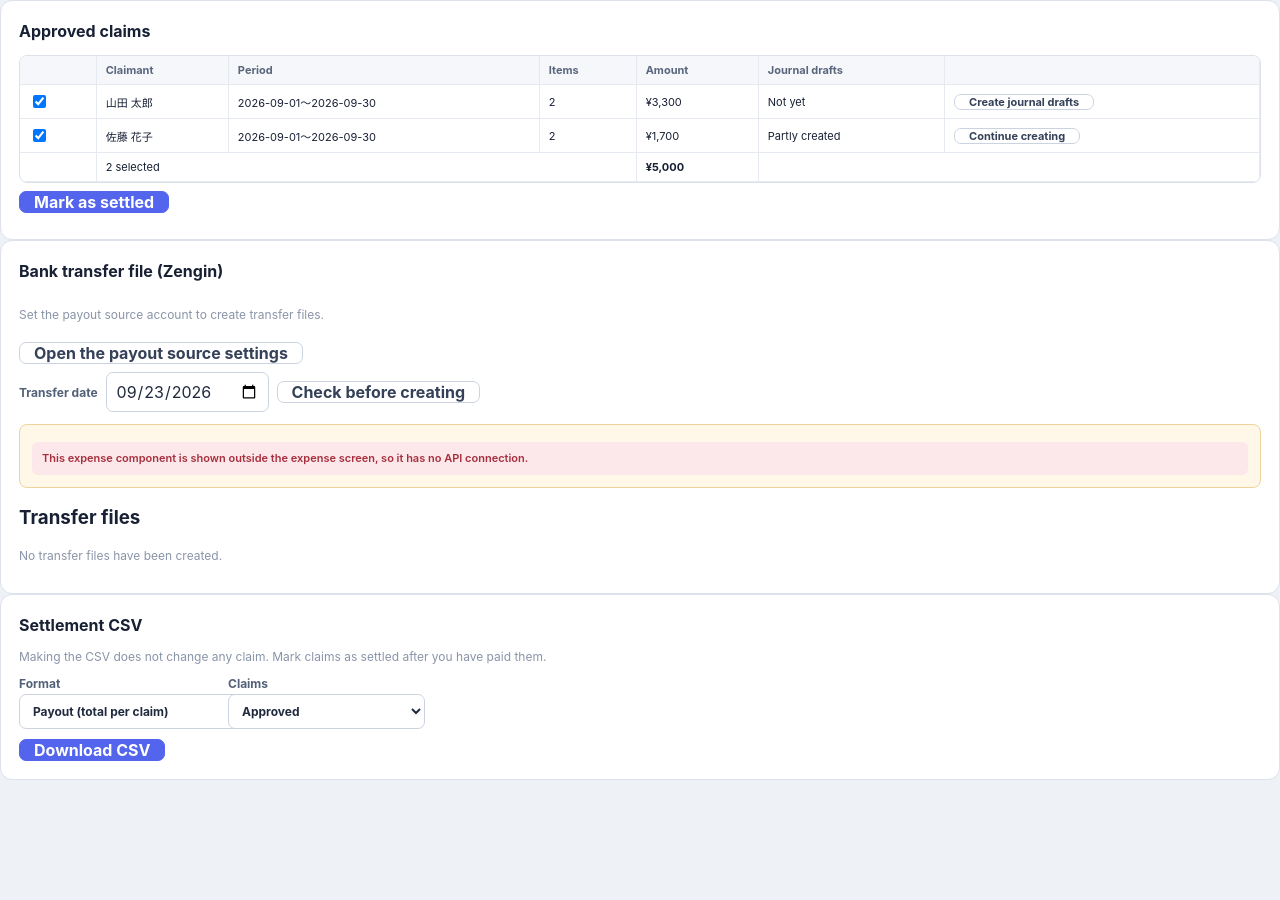
Test: SettleTab › 正常: 形式を選んで CSV を作り、警告を出し、ダウンロードできない環境ではテキストエリアに出す
Select "Detail (one row per item, for audit)" in the dropdown showing "Payout (total per claim)": (139, 711) [19,694,259,729]
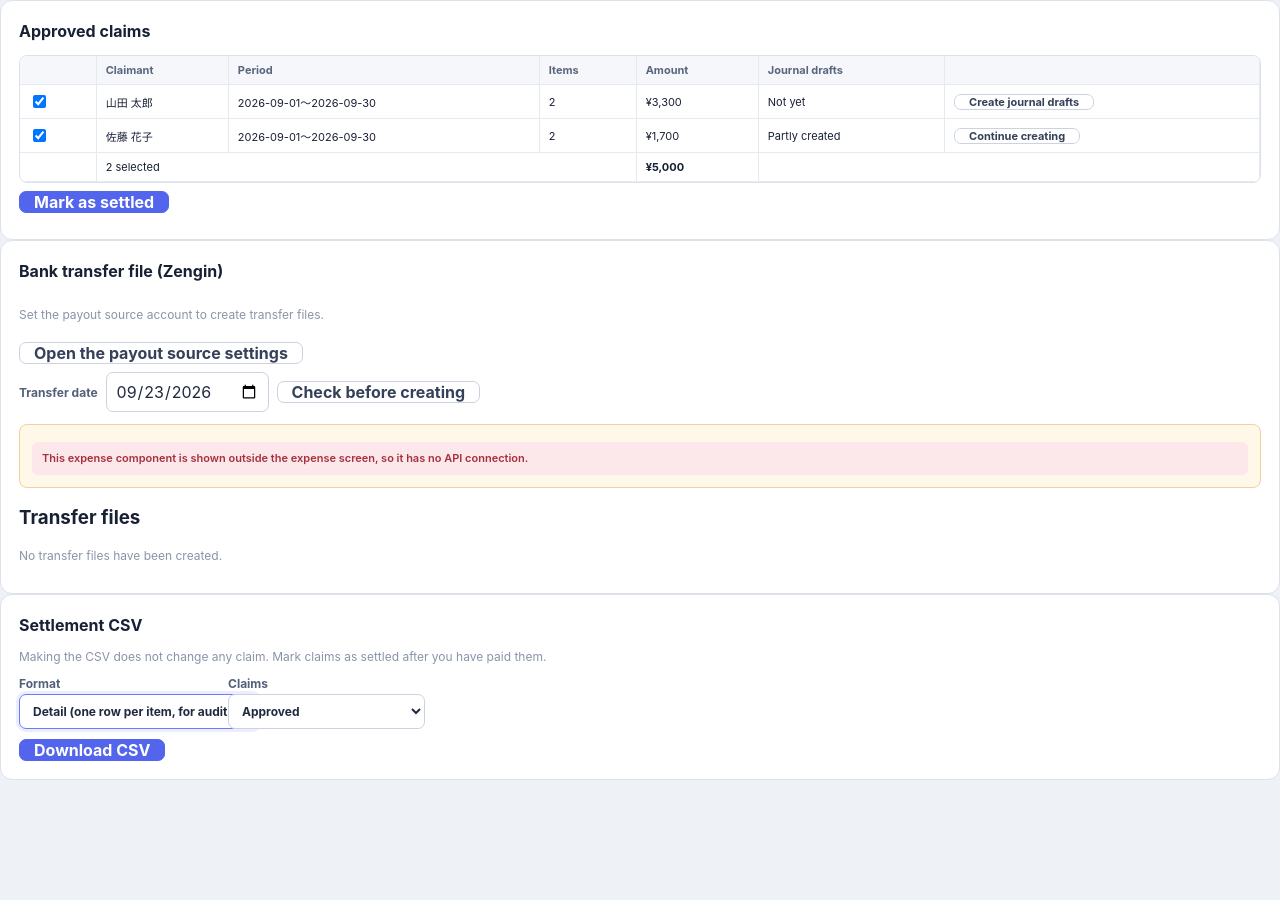
Click the button "Download CSV": (92, 750) [19,739,165,761]
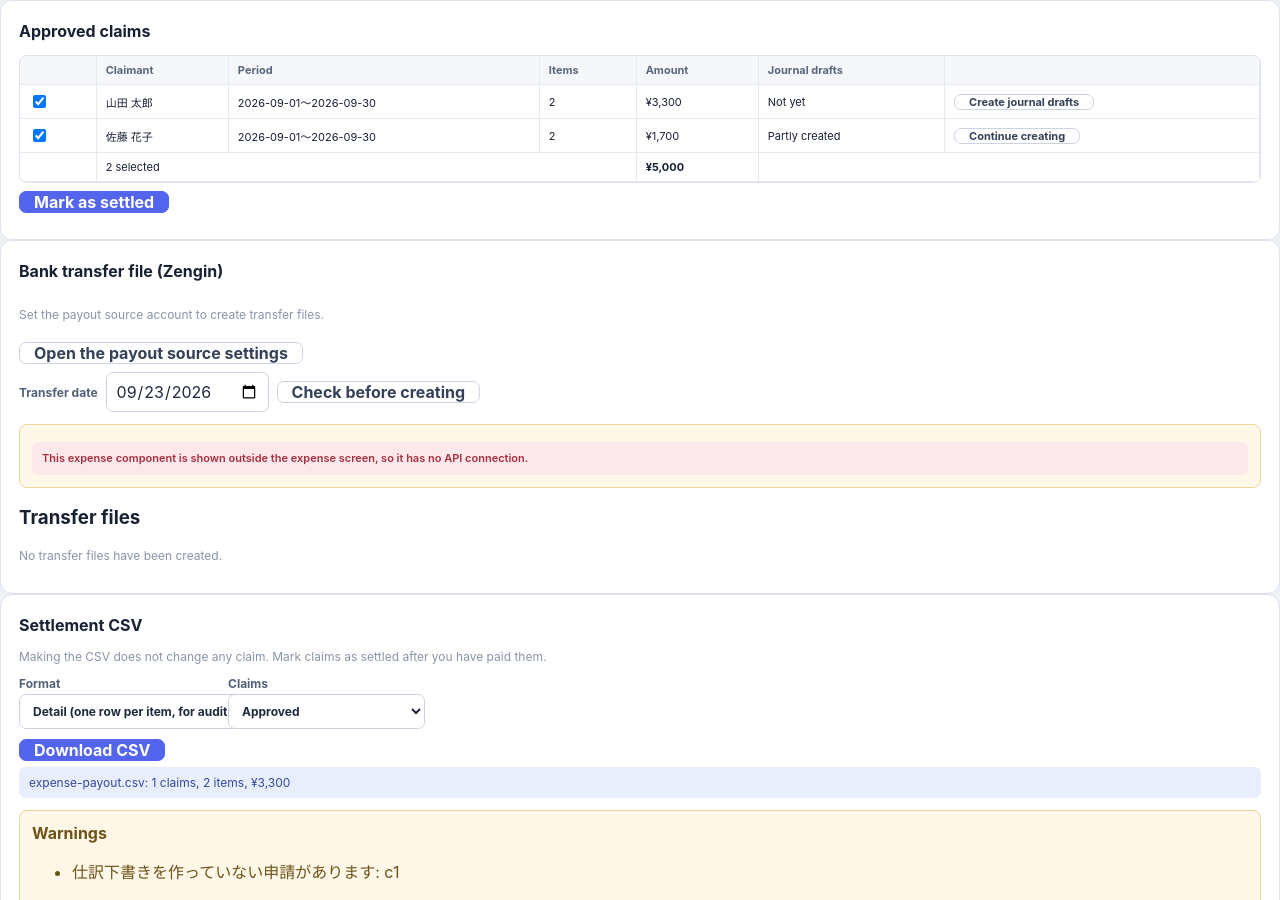
Expected: the list item "仕訳下書きを作っていない申請があります: c1" is shown, [72,862,399,882]
